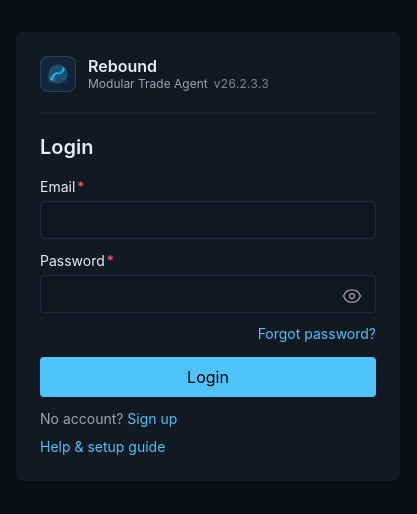
Test: LoginPage › shows error on invalid credentials
The image size is (417, 514).
In the field labelled "Email*": x=208, y=220 [40,200,376,238], type "bad@example.com"
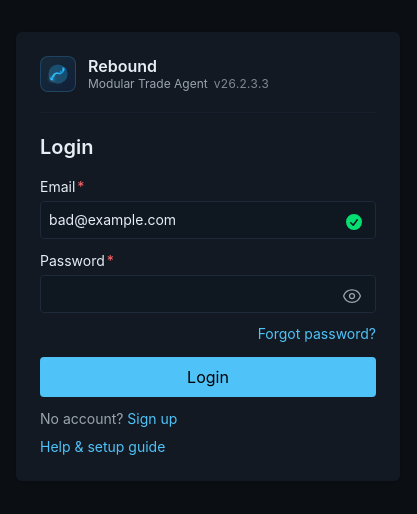
In the password field labelled "Password*": x=208, y=294 [40,274,376,312], type "wrong"
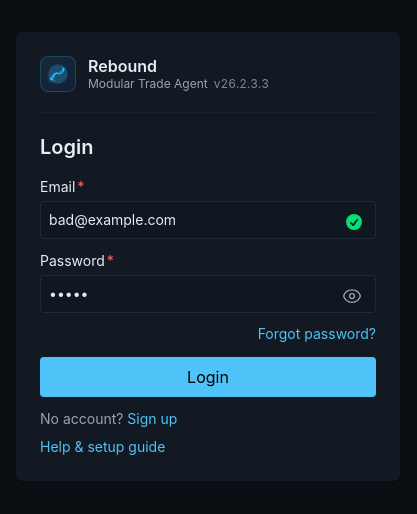
Click the button "Login": x=208, y=376 [40,356,376,396]
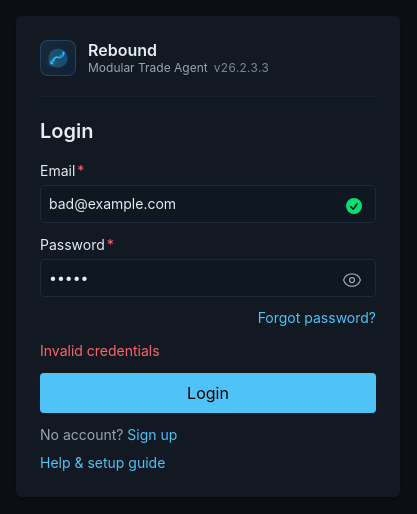
Expected: the text "Invalid credentials" is shown, [40,342,160,358]
